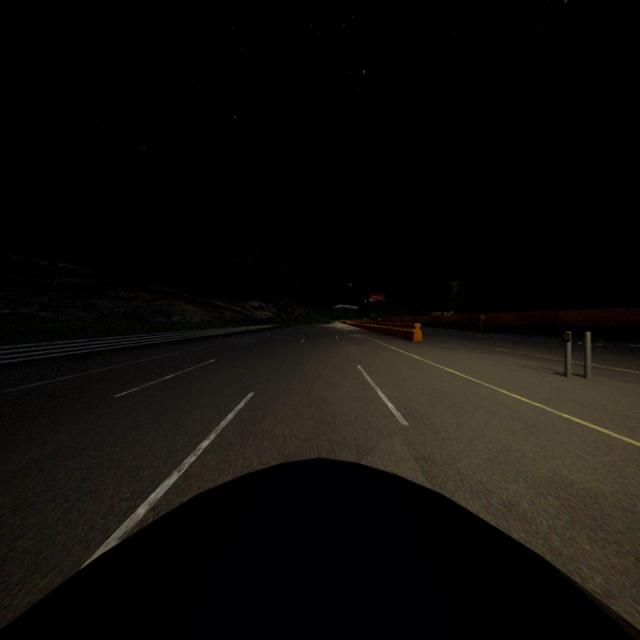Traffic_Signs: (480, 313, 485, 321)
Vehicle: (0, 458, 640, 640)
